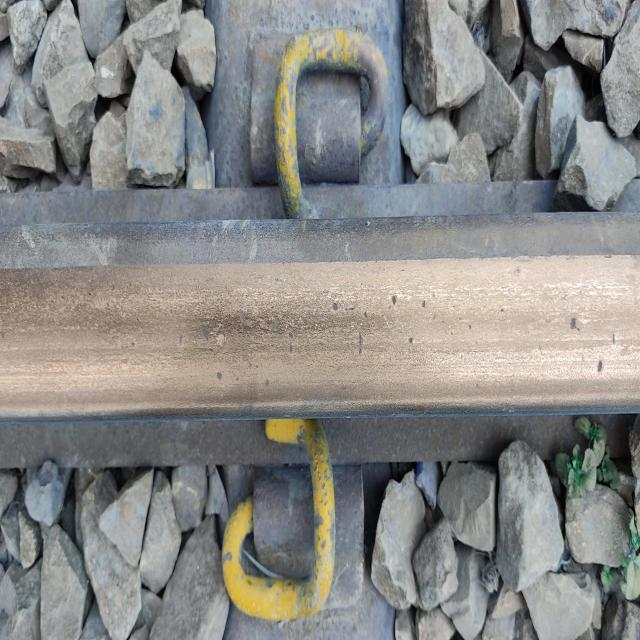Good Fasteners: (210, 414, 400, 640), (241, 25, 417, 226)
